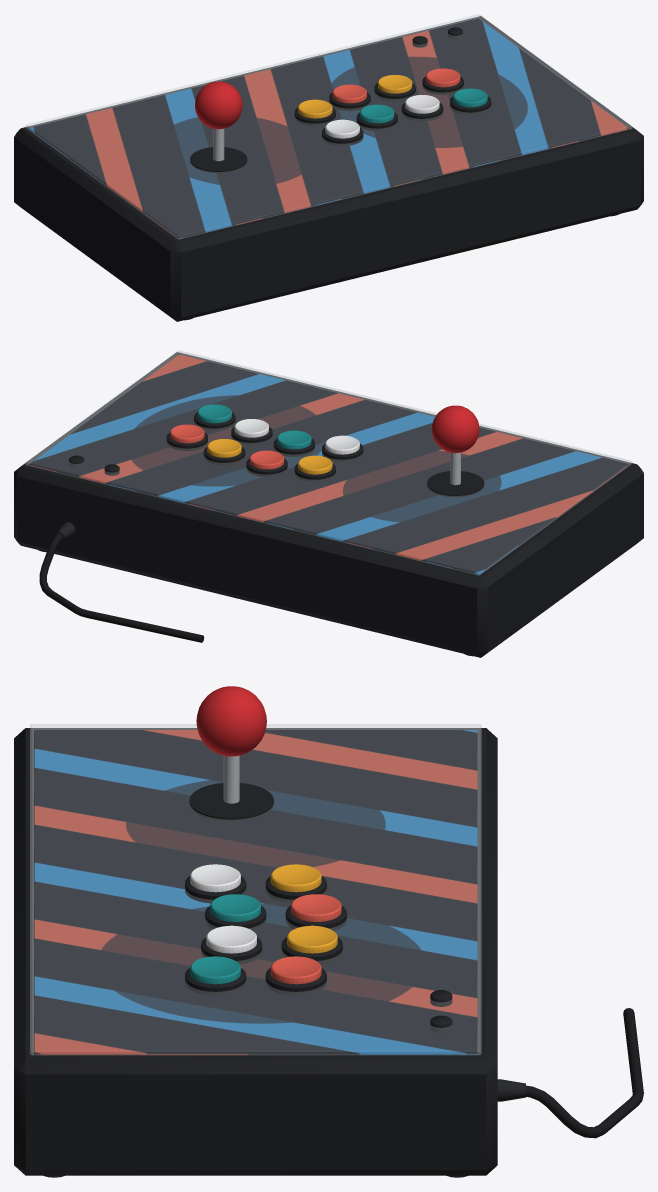
File: arcade-fight-stick.glb
3 renders of one model, top to bottom at view 1: azimuth 30°, elevation 25°; view 2: azimuth 150°, elevation 25°; view 3: azimuth 270°, elevation 25°, orthographic. The views are drawn at different scales.
Visible parts, largest first — view 1: Arcade_Fight_Stick; view 2: Arcade_Fight_Stick; view 3: Arcade_Fight_Stick.
Part boxes in pixels (left/top/right/bottom): Arcade_Fight_Stick: left=14, top=14, right=643, bottom=321; Arcade_Fight_Stick: left=14, top=350, right=643, bottom=657; Arcade_Fight_Stick: left=14, top=686, right=643, bottom=1177.
Bounding box in the file's own units: 0.4 × 0.1332 × 0.3125.
11 materials, 1 textured.
